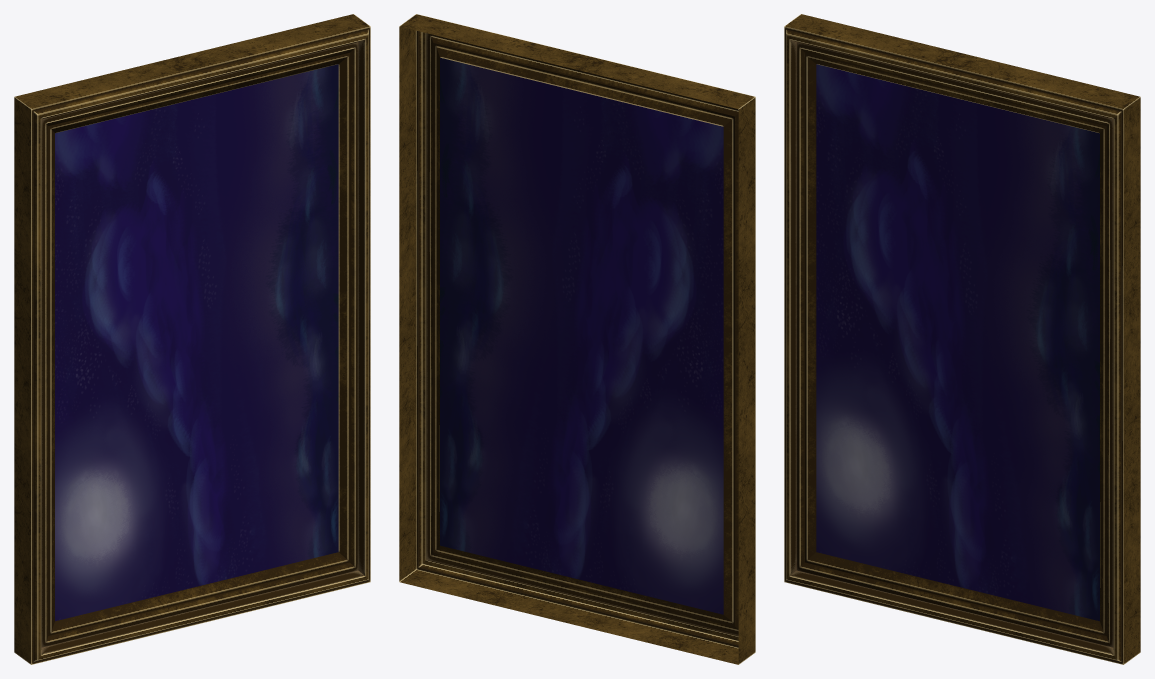
File: Painting 3.fbx
3 views of the same model, side by side, from view 1: azimuth 30°, elevation 25°; view 2: azimuth 150°, elevation 25°; view 3: azimuth 330°, elevation 25° (orthographic).
Visible parts, largest first — view 1: painting_Var2; view 2: painting_Var2; view 3: painting_Var2.
Boxes of the visible parts, bbox=[...] form: painting_Var2: bbox=[14, 14, 370, 664]; painting_Var2: bbox=[399, 14, 755, 664]; painting_Var2: bbox=[784, 14, 1140, 664].
Size of the model in its own units: 59.07 by 92.39 by 5.86.
2 materials, 2 textured.
